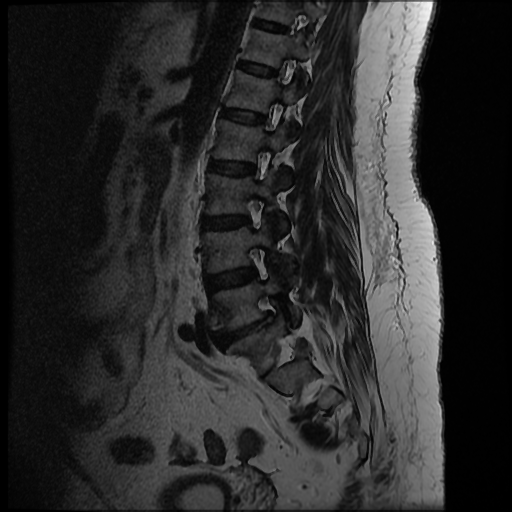LFS0: (236, 138, 286, 191), (245, 89, 294, 137), (233, 190, 280, 240), (234, 243, 285, 289)
LFS1: (248, 289, 291, 333)
